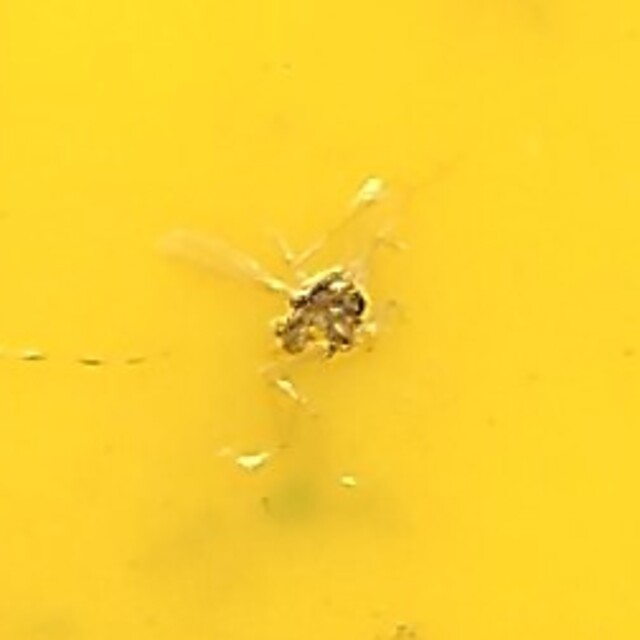Nematocera: (254, 259, 386, 381)
